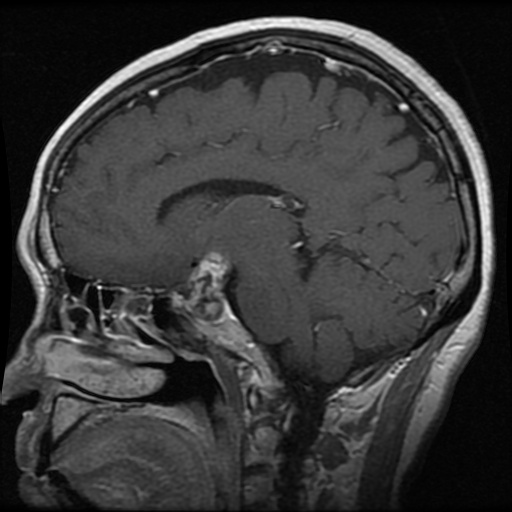pituitary: (188, 253, 228, 314)
